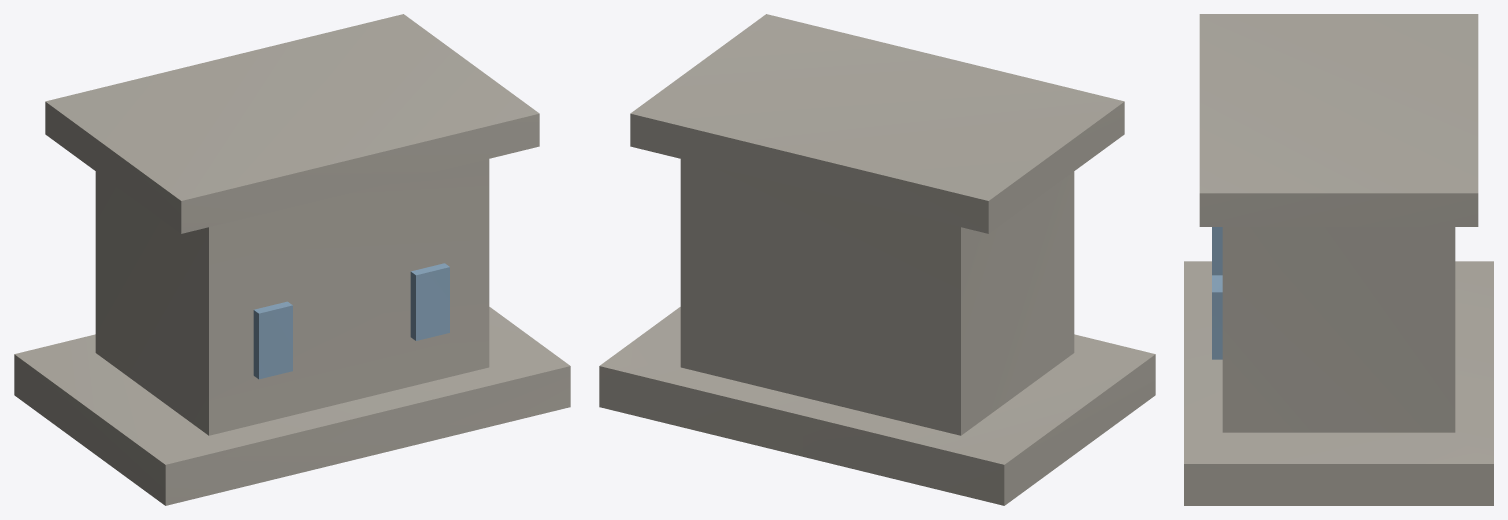
The model's file is market-07.glb.
The picture shows the model from 3 angles, left to right: view 1: azimuth 30°, elevation 25°; view 2: azimuth 150°, elevation 25°; view 3: azimuth 270°, elevation 25°; orthographic projection. The views are drawn at different scales.
Parts seen in each view (by area): view 1: world; view 2: world; view 3: world.
Boxes of the visible parts, left/top/right/bottom form: world: left=14, top=14, right=570, bottom=505; world: left=599, top=14, right=1155, bottom=505; world: left=1184, top=14, right=1493, bottom=505.
Bounding box in the file's own units: 1.55 × 1.07 × 1.
